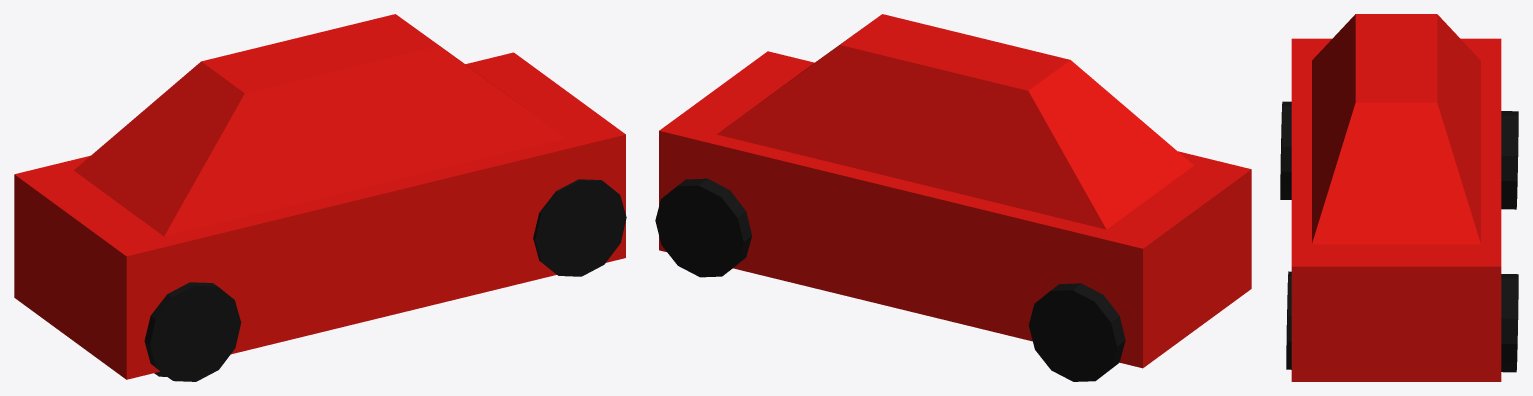
The model's file is Garagem 1.fbx.
The picture shows the model from 3 angles, left to right: view 1: azimuth 30°, elevation 25°; view 2: azimuth 150°, elevation 25°; view 3: azimuth 270°, elevation 25°; orthographic projection. The views are drawn at different scales.
Parts seen in each view (by area): view 1: Car; view 2: Car; view 3: Car.
Part boxes in pixels (x1,y1,x2,y2): Car: (14,14,626,381); Car: (655,14,1251,381); Car: (1280,14,1518,381).
Size of the model in its own units: 514 by 244 by 227.
